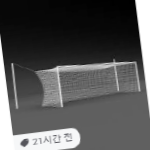goals: (35, 60, 143, 111)
